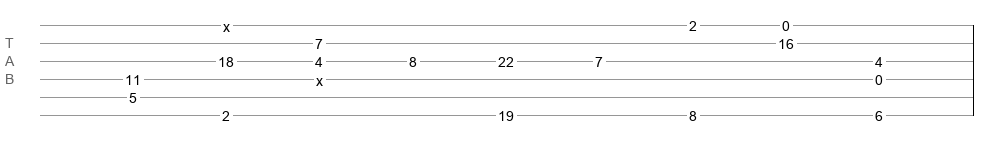0: (782, 18, 790, 28), (875, 72, 883, 82)
11: (125, 72, 141, 82)
16: (778, 36, 794, 46)
18: (218, 54, 234, 64)
19: (498, 108, 514, 118)
2: (222, 108, 230, 118), (689, 18, 697, 28)
22: (498, 54, 514, 64)
4: (315, 54, 323, 64), (875, 54, 883, 64)
5: (129, 90, 137, 100)
6: (875, 108, 883, 118)
7: (315, 36, 323, 46), (595, 54, 603, 64)
8: (409, 54, 417, 64), (689, 108, 697, 118)
x: (223, 19, 230, 27), (316, 73, 323, 81)
